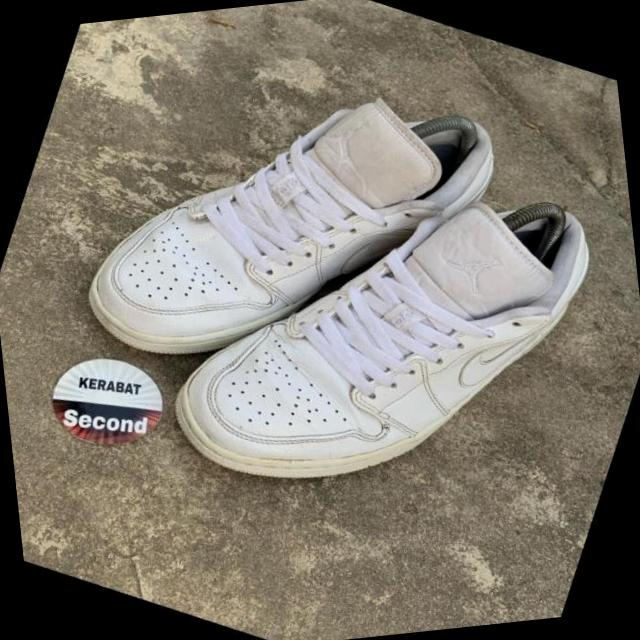nike_original_airforce: (124, 72, 640, 590), (42, 0, 545, 471)
